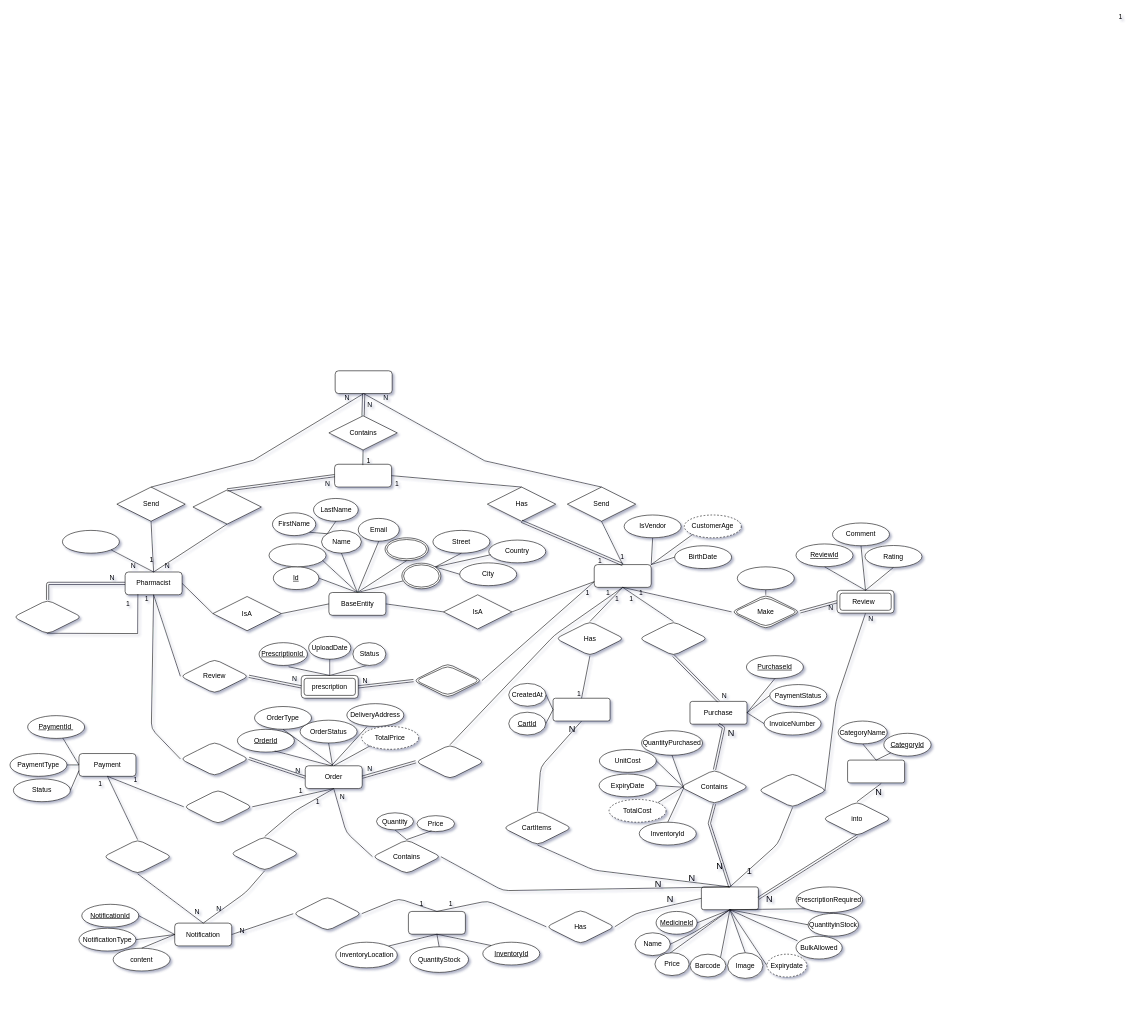
Some shapes in this 1141 by 1030 pixel diagram are drawn without their labels. The centre of each missing label's shape, as x and y in pixels:
"Access" belongs at point (226, 506).
"Address" belongs at point (421, 576).
"Alert" belongs at point (327, 913).
"Category" belongs at point (876, 771).
"Chat" belongs at point (363, 475).
"Customer" belongs at point (622, 575).
"GeneratedFor" belongs at point (137, 856).
"Hire_Date" belongs at point (90, 541).
"Inventory" belongs at point (436, 922).
"Manage" belongs at point (47, 616).
"Medicine" belongs at point (729, 898).
"Message" belongs at point (363, 382).
"PasswordHash" belongs at point (297, 555).
"PaysFor" belongs at point (217, 806).
"Phone" belongs at point (406, 549).
"Process" belongs at point (214, 758).
"Related To" belongs at point (792, 790).
"RelatedTo" belongs at point (264, 853).
"ReviewDate" belongs at point (765, 578).
"ShoppingCart" belongs at point (581, 709).
"Supply" belongs at point (673, 638).
"Take" belongs at point (449, 761).
"Upload" belongs at point (447, 680).
